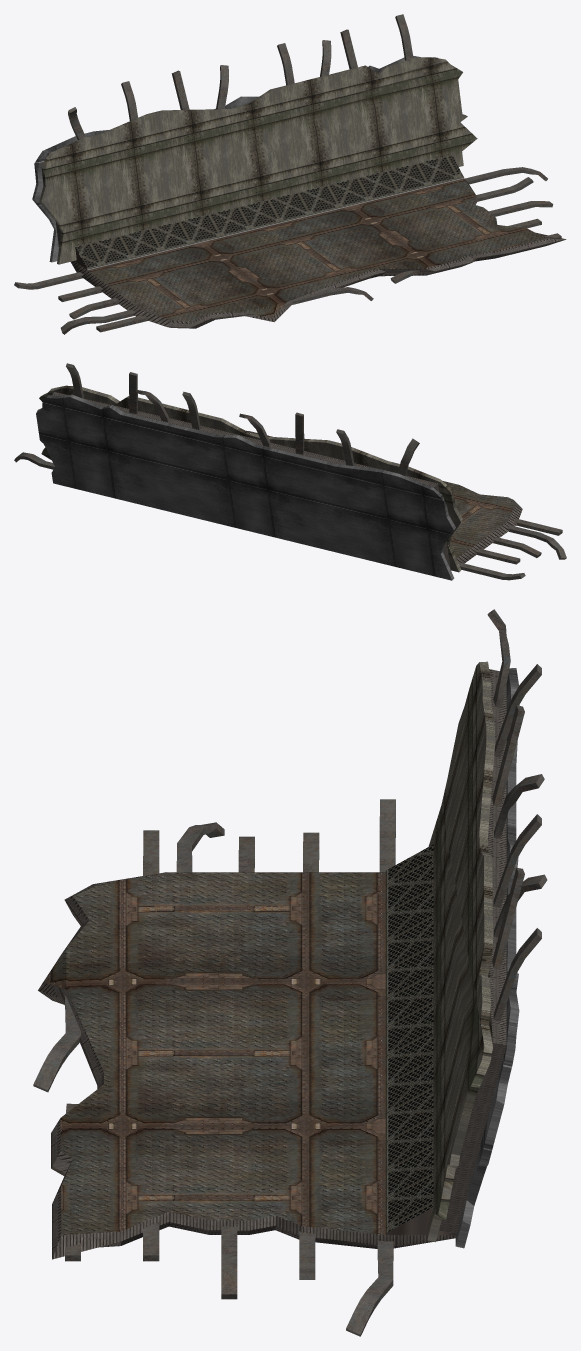
The model's file is Wreckage5.fbx.
The picture shows the model from 3 angles, top to bottom: view 1: azimuth 30°, elevation 25°; view 2: azimuth 150°, elevation 25°; view 3: azimuth 270°, elevation 25°; orthographic projection. The views are drawn at different scales.
Parts seen in each view (by area): view 1: polySurface1, pCube1, pasted__pasted__pasted__pCube2 (×4), pasted__pCube2 (×2), pCube2, pasted__pasted__pasted__pasted__pCube2; view 2: polySurface1, pCube1, pasted__pasted__pCube2 (×6), pasted__pasted__pasted__pCube2 (×5), pasted__pCube2 (×2), pCube2; view 3: pCube1, polySurface1, pasted__pasted__pasted__pCube2 (×3), pasted__pCube2 (×3), pasted__pasted__pCube2 (×3), pasted__pasted__pasted__pasted__pCube2, pCube2.
Part boxes in pixels (bbox=[...]): polySurface1: bbox=[32, 56, 477, 264]; pCube1: bbox=[71, 155, 566, 328]; pasted__pasted__pasted__pCube2 (×4): bbox=[216, 14, 547, 201]; pasted__pCube2 (×2): bbox=[14, 272, 373, 304]; pCube2: bbox=[60, 309, 135, 334]; pasted__pasted__pasted__pasted__pCube2: bbox=[489, 201, 553, 216]; polySurface1: bbox=[36, 385, 462, 580]; pCube1: bbox=[246, 430, 522, 563]; pasted__pasted__pCube2 (×6): bbox=[295, 412, 562, 564]; pasted__pasted__pasted__pCube2 (×5): bbox=[14, 363, 270, 469]; pasted__pCube2 (×2): bbox=[129, 372, 525, 580]; pCube2: bbox=[507, 525, 566, 559]; pCube1: bbox=[38, 844, 456, 1259]; polySurface1: bbox=[427, 661, 519, 1248]; pasted__pasted__pasted__pCube2 (×3): bbox=[346, 814, 541, 1336]; pasted__pCube2 (×3): bbox=[33, 799, 524, 1092]; pasted__pasted__pCube2 (×3): bbox=[487, 609, 541, 806]; pasted__pasted__pasted__pasted__pCube2: bbox=[221, 1226, 237, 1299]; pCube2: bbox=[176, 822, 224, 872].
Bounding box in the file's own units: 15.27 × 4.44 × 6.58.
Materials: 19 (18 with a texture image).
